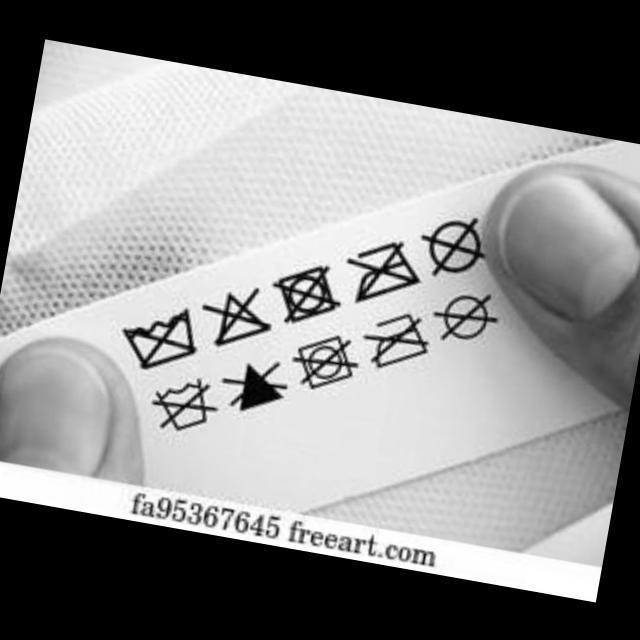DN_bleach: (193, 274, 284, 358), (212, 346, 304, 420)
DN_dry_clean: (413, 204, 499, 287), (428, 282, 508, 352)
DN_iron: (334, 226, 434, 319), (350, 301, 444, 383)
DN_tumble_dry: (262, 250, 351, 334), (283, 323, 367, 400)
DN_wash: (112, 296, 206, 383), (144, 366, 226, 444)
